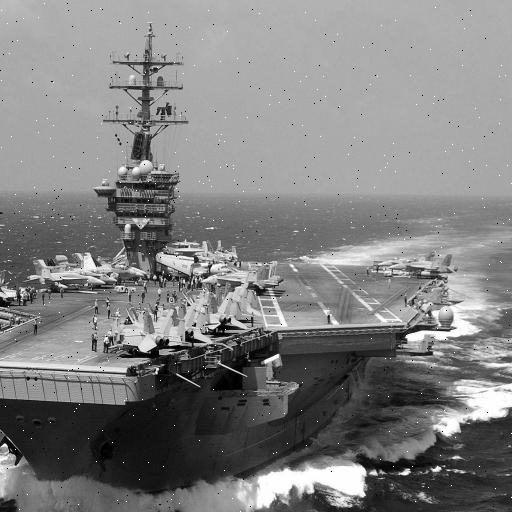Portanaves: (1, 19, 463, 512)
